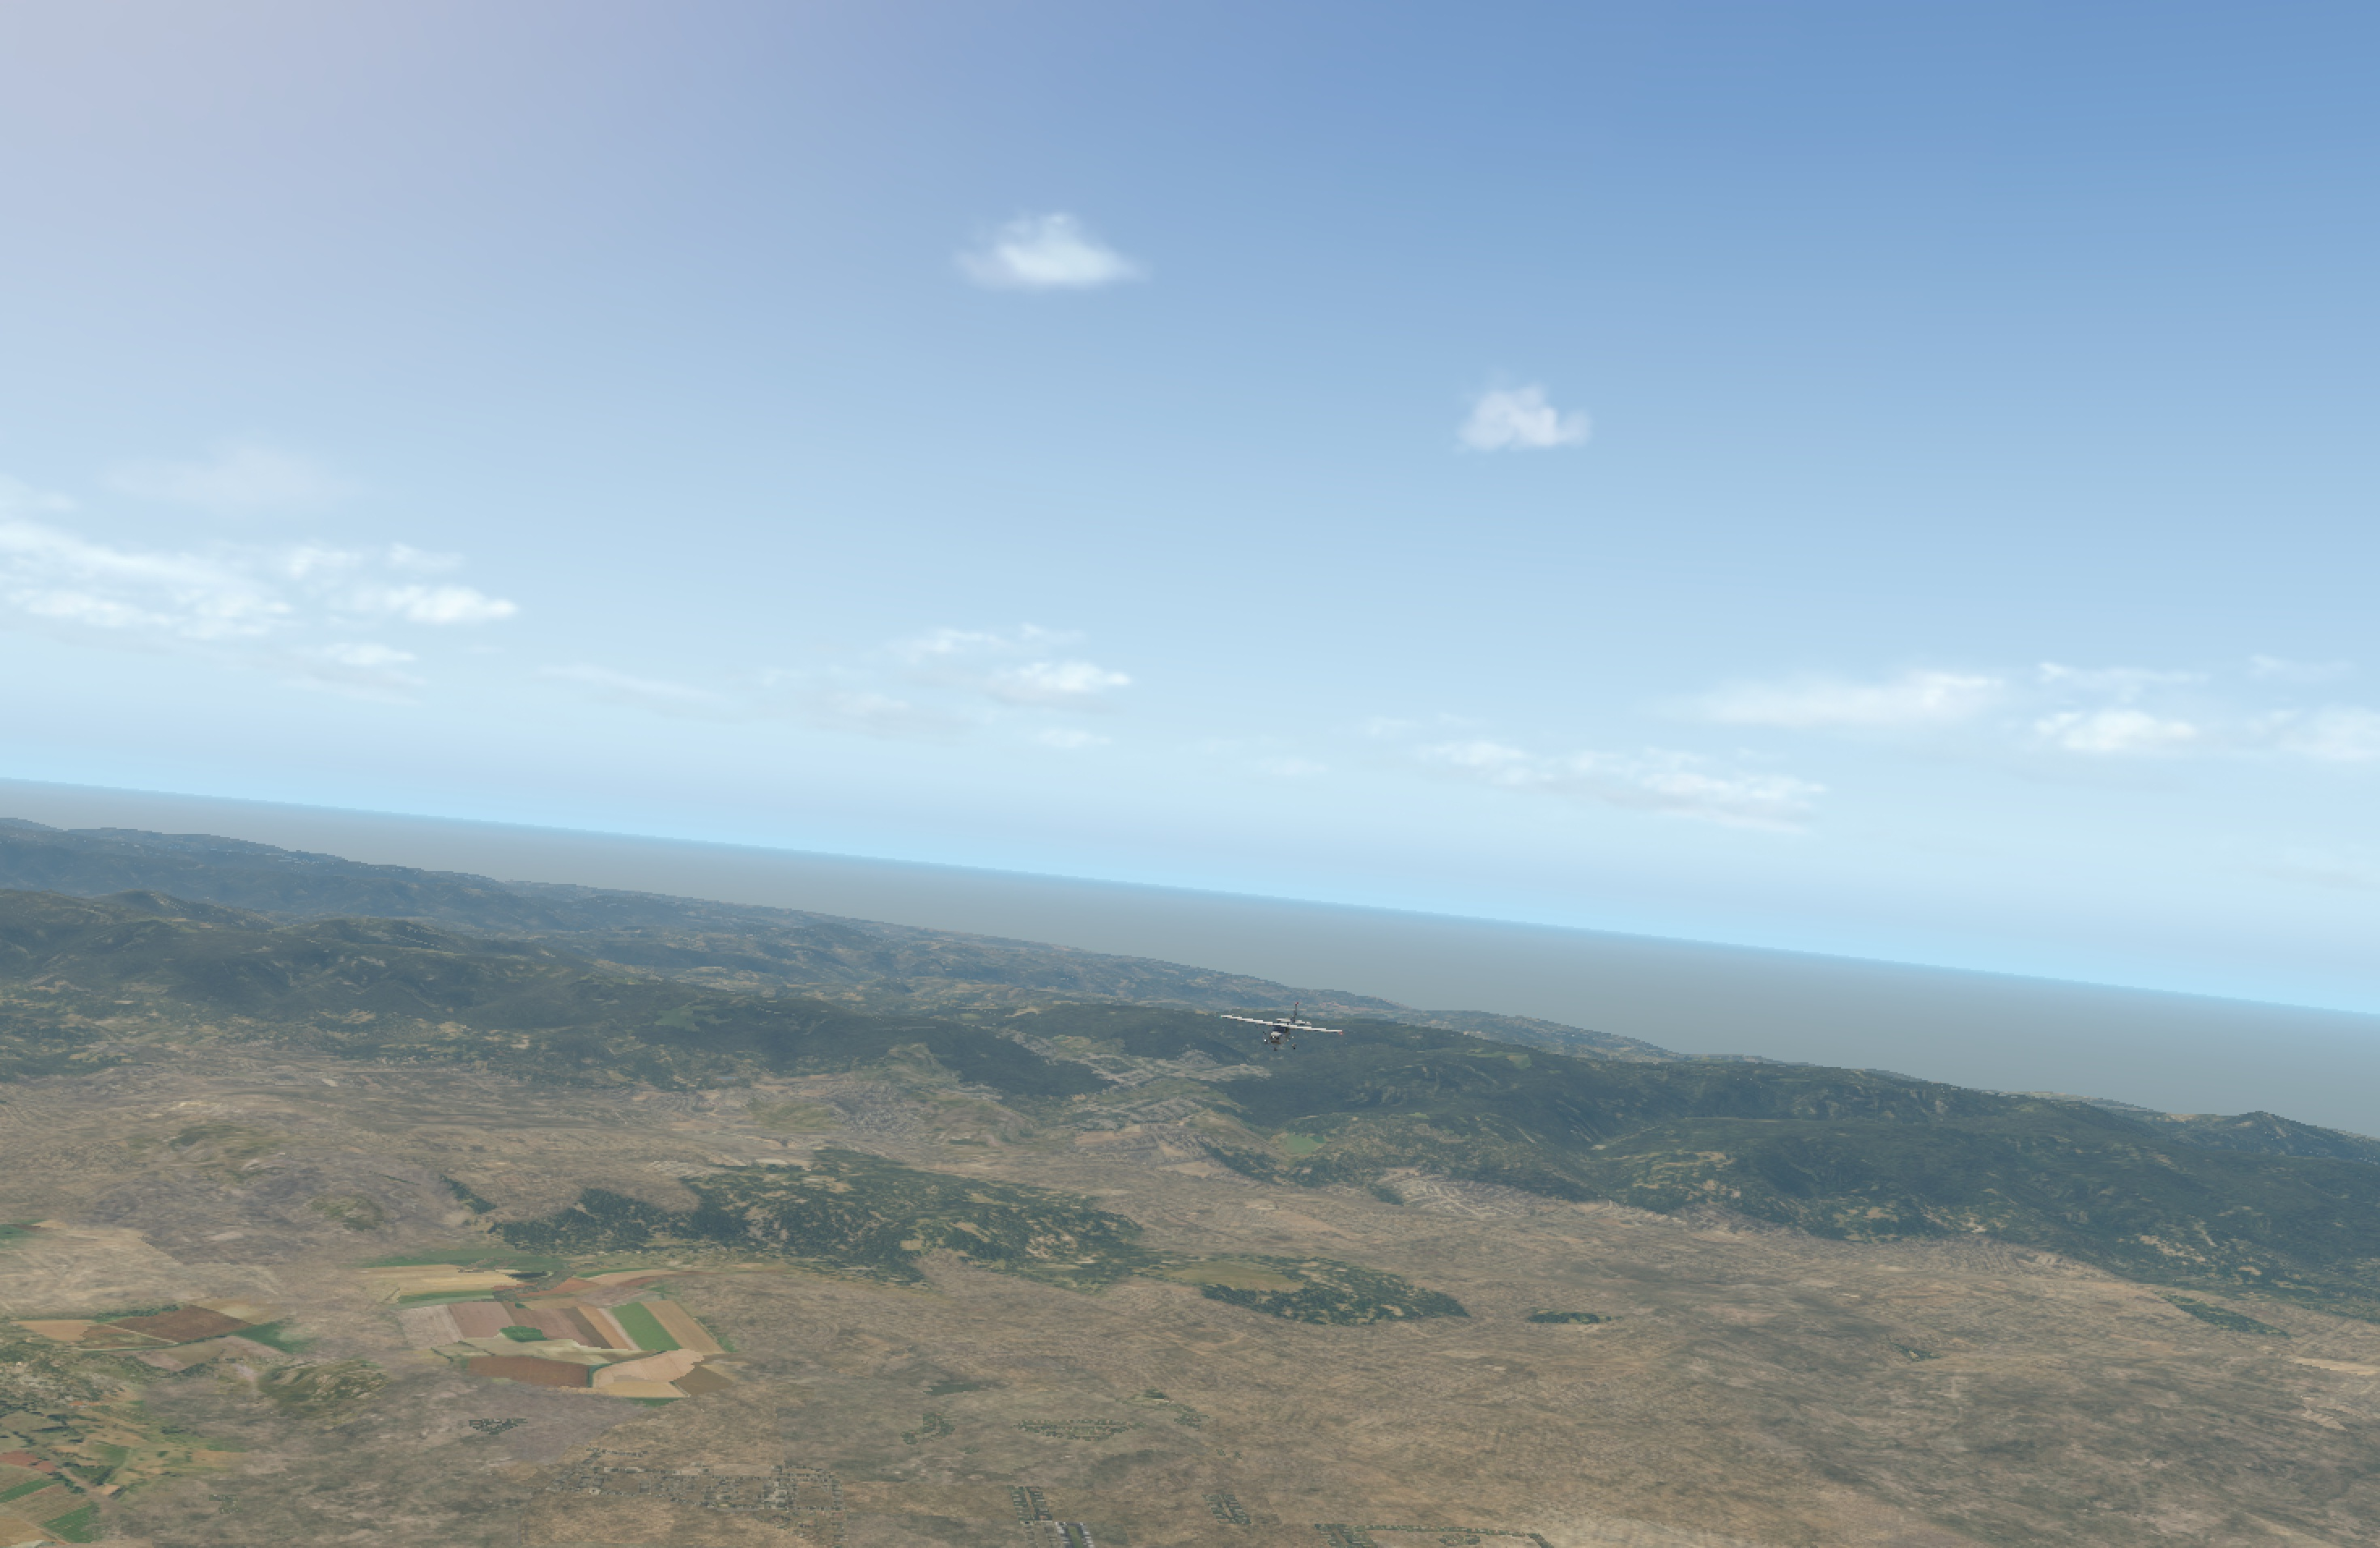aircraft: (1235, 1015, 1325, 1050)
